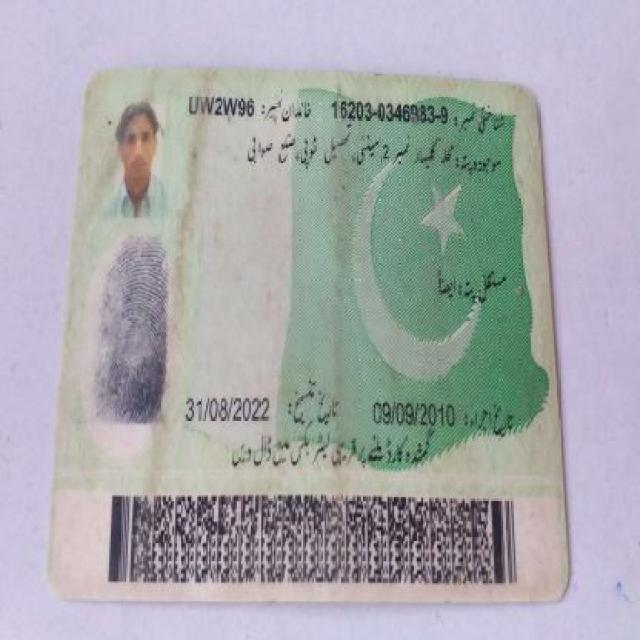Back: (68, 69, 572, 591)
